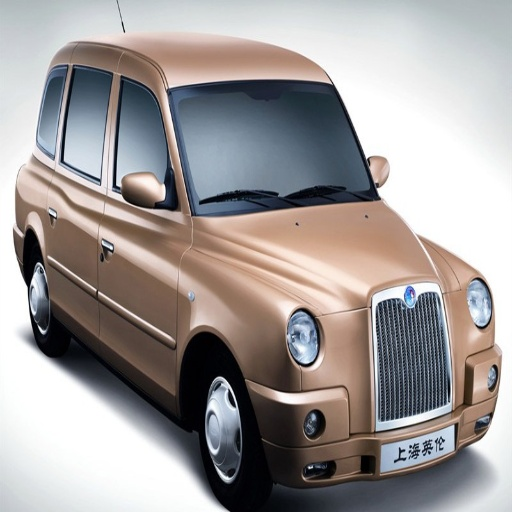front_bumper: (247, 282, 495, 484)
front_right_door: (100, 64, 192, 390)
front_right_light: (286, 309, 321, 365)
hood: (206, 201, 456, 316)
